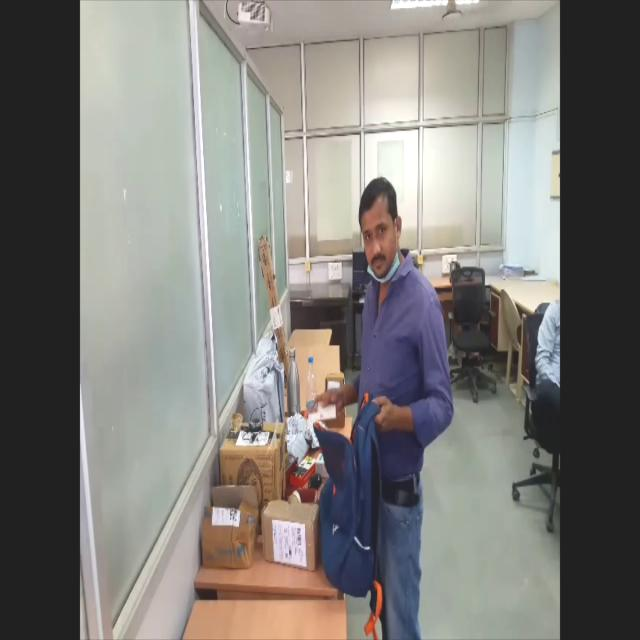shoplifting: (310, 174, 457, 640)
